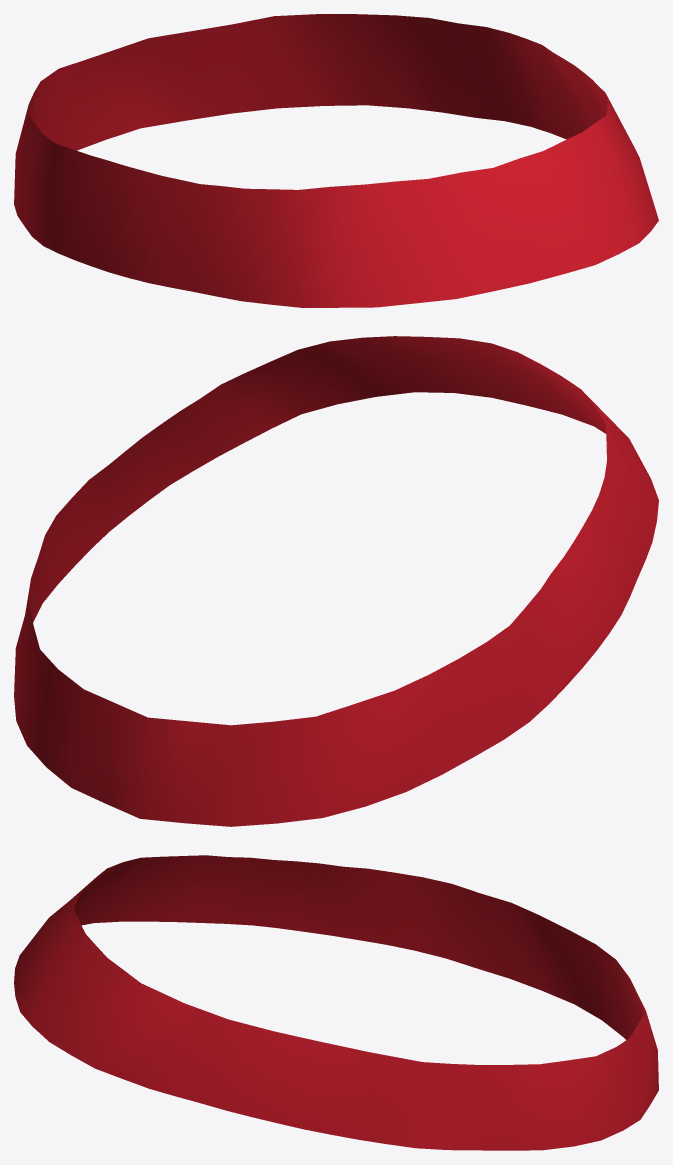
The model's file is headband.glb.
The picture shows the model from 3 angles, top to bottom: view 1: azimuth 30°, elevation 25°; view 2: azimuth 150°, elevation 25°; view 3: azimuth 270°, elevation 25°; orthographic projection. The views are drawn at different scales.
Parts seen in each view (by area): view 1: headband; view 2: headband; view 3: headband.
Part boxes in pixels (x1,y1,x2,y2): headband: (14,14,658,307); headband: (14,336,658,826); headband: (14,855,658,1150).
Bounding box in the file's own units: 0.1615 × 0.0685 × 0.2205.
